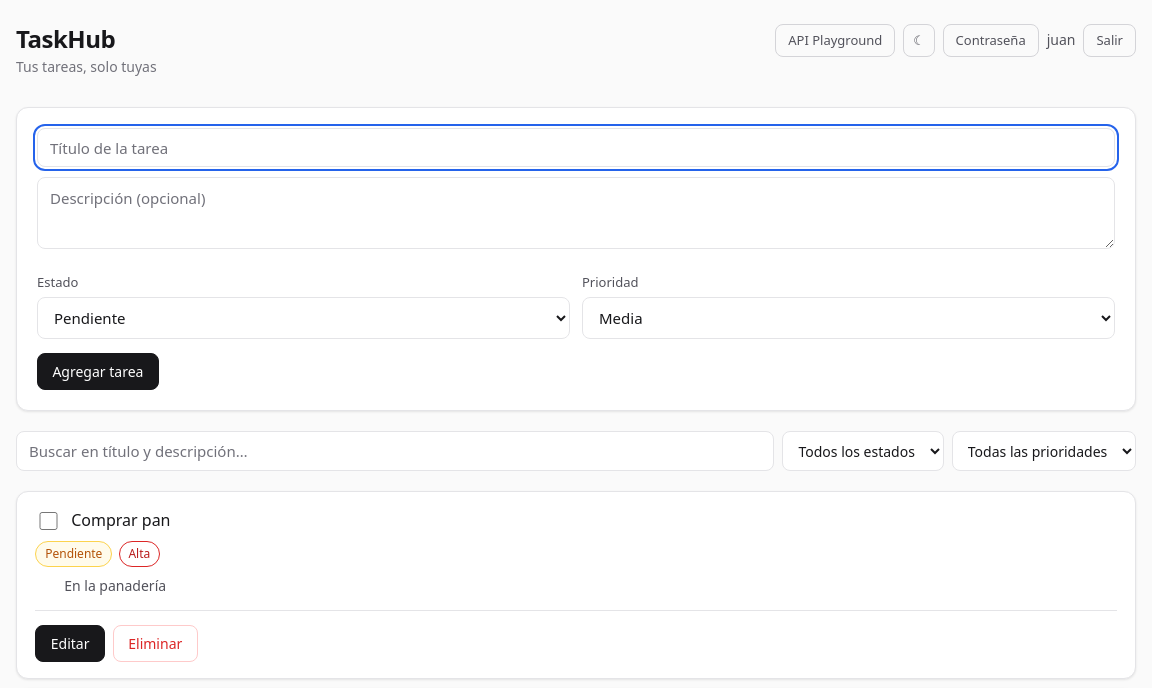
Scenario: crear una tarea › un fallo al crear muestra el error y no añade nada
In the field with placeholder "Título de la tarea": (576, 148) x1=37 y1=128 x2=1115 y2=167, type "Comprar pan"
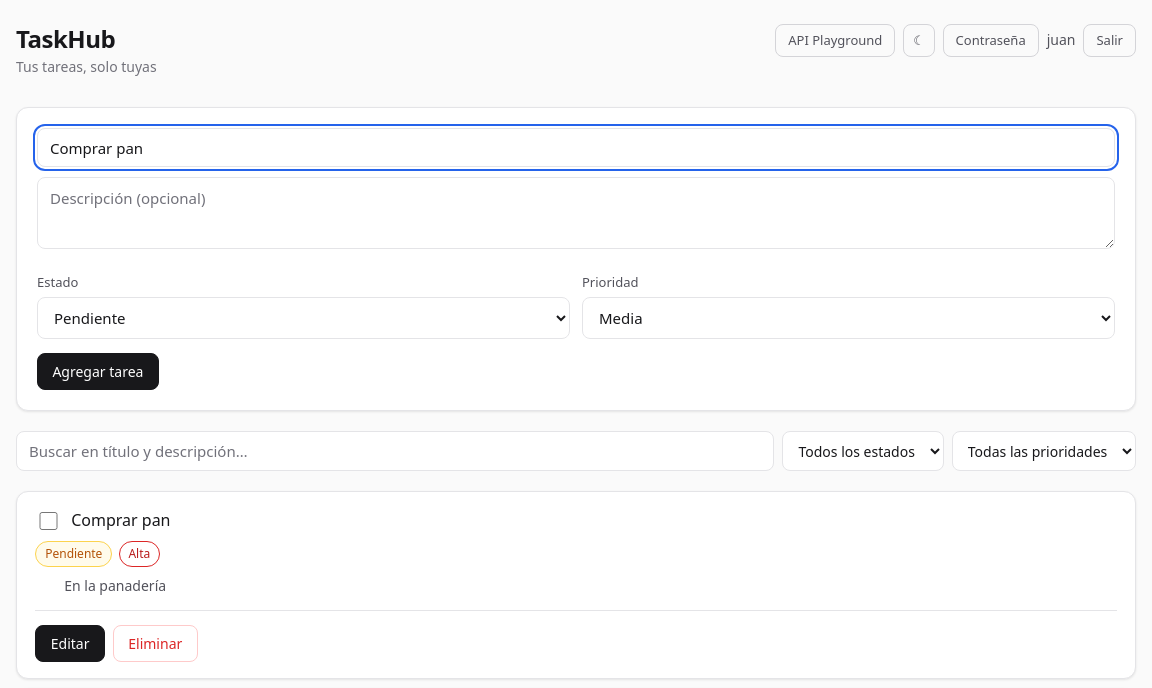
Click the button "Agregar tarea": (98, 372) x1=37 y1=353 x2=159 y2=390
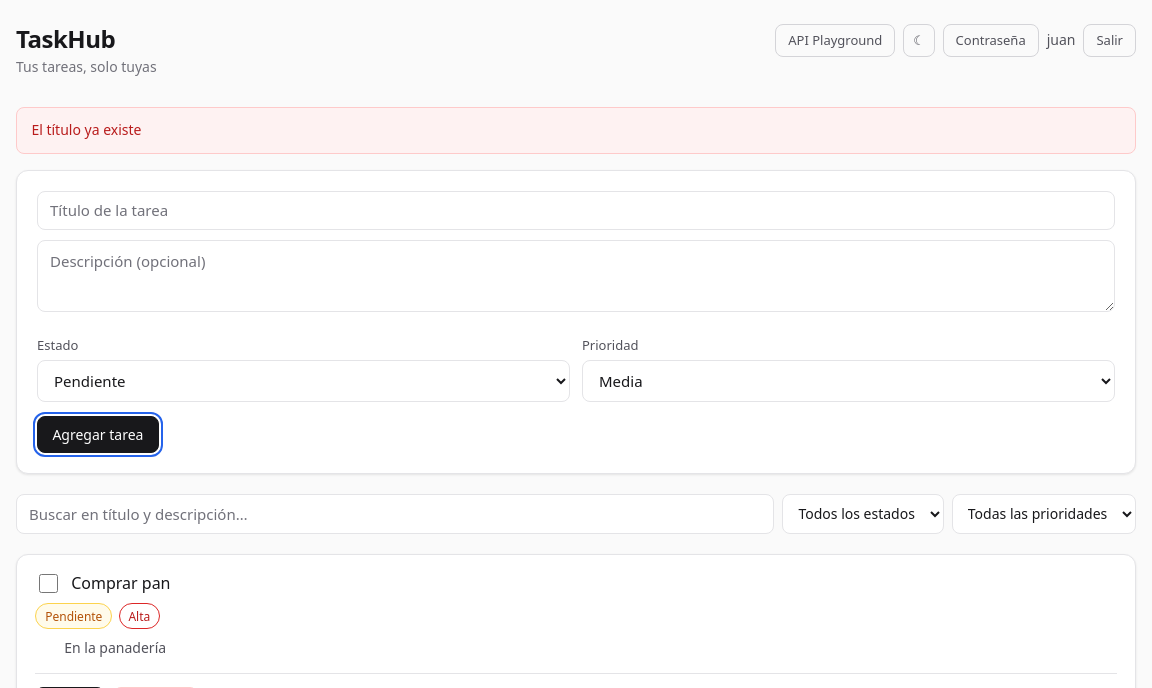
Expected: the text "Comprar pan" is shown once, x1=71 y1=571 x2=170 y2=596
Result: the text "El título ya existe" is shown at x1=16 y1=107 x2=1136 y2=154
